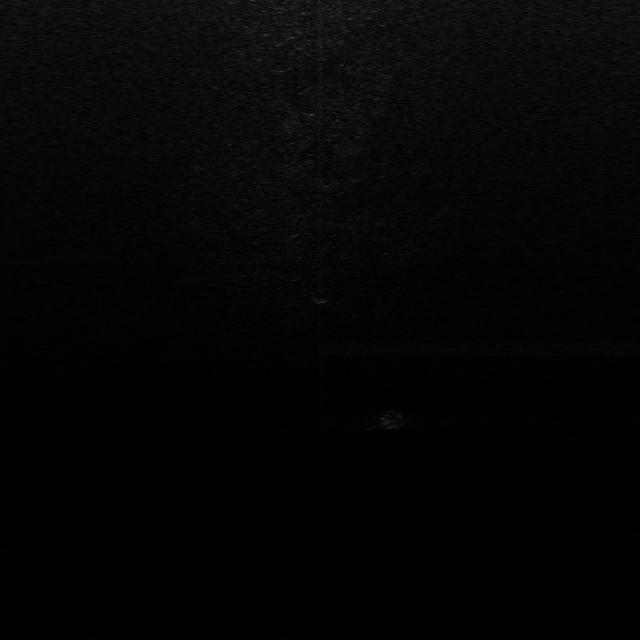ball: (376, 411, 408, 430)
circle cage: (308, 288, 336, 306)
